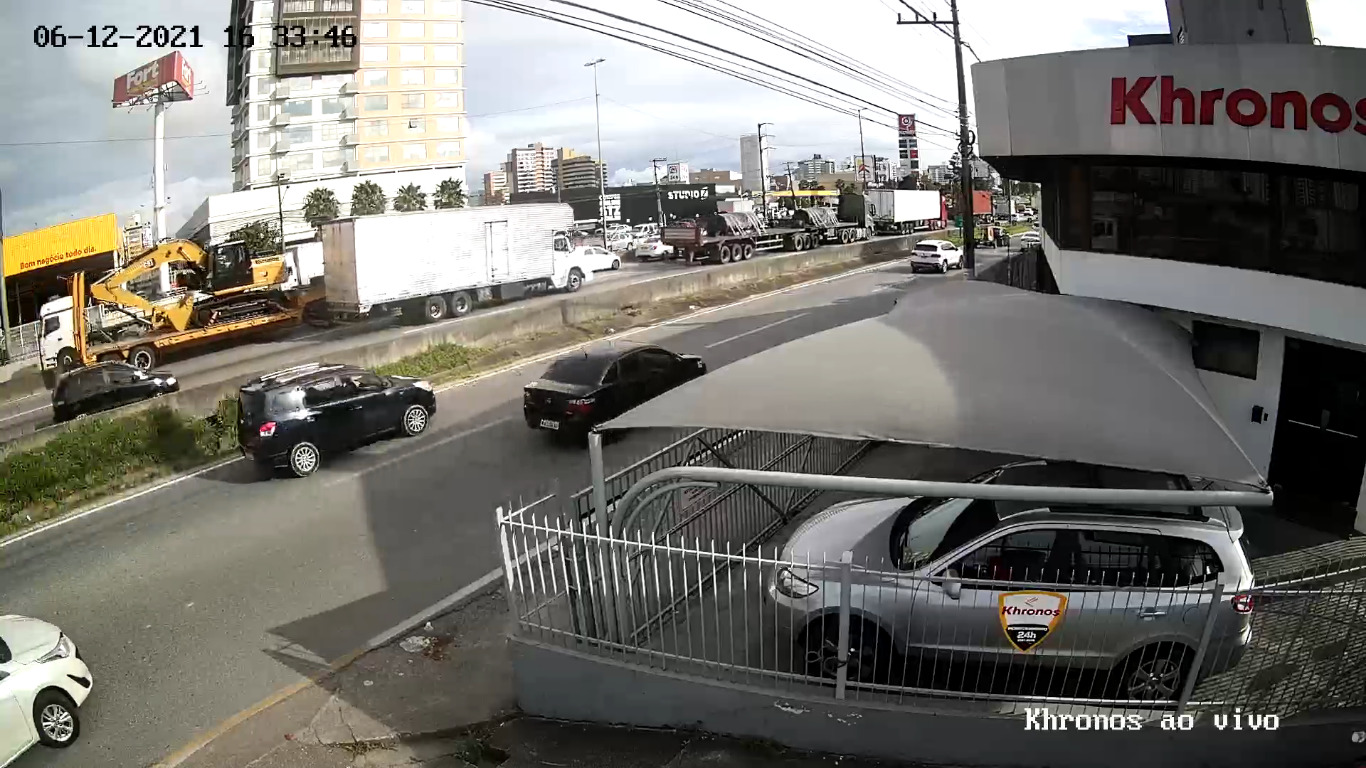car: (237, 364, 438, 477), (524, 340, 706, 445), (1, 613, 94, 767)
